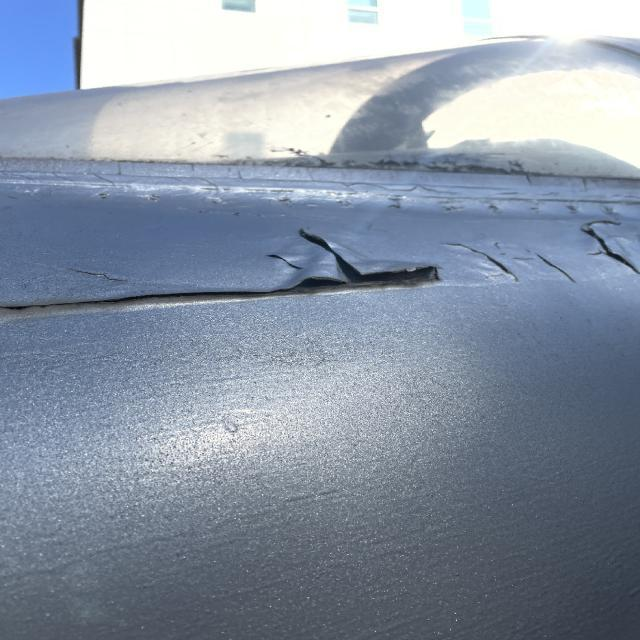crack: (445, 240, 575, 293), (272, 255, 342, 275), (72, 268, 125, 286)
